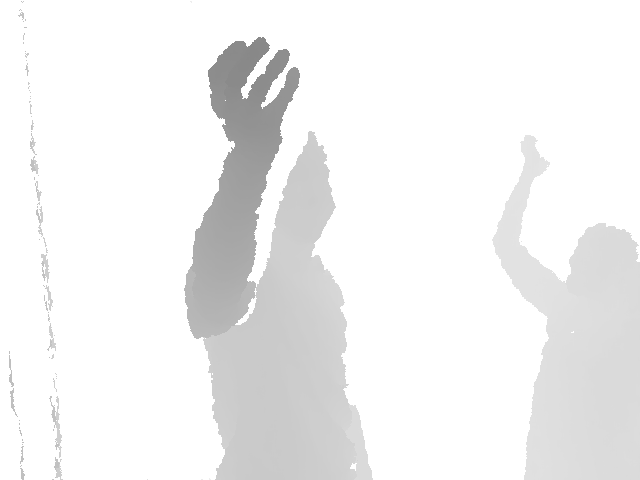hand: (207, 36, 301, 146), (519, 133, 551, 176)
head: (265, 131, 337, 254), (565, 221, 640, 317)
person: (182, 35, 376, 480), (491, 132, 640, 480)
